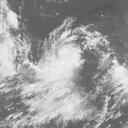cyclone: (23, 19, 118, 112)
